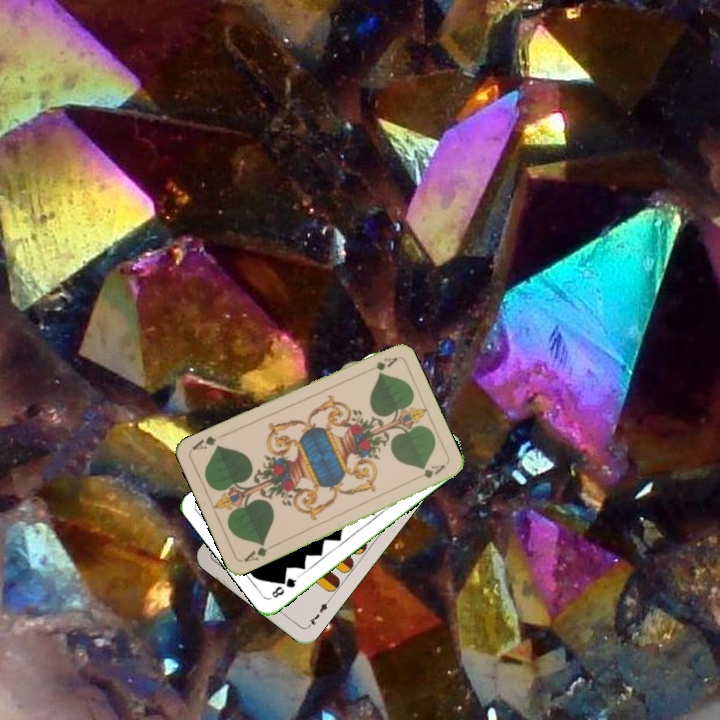E7: (304, 595, 333, 630)
G8: (267, 572, 301, 600)
GA: (361, 353, 400, 375), (240, 538, 270, 565)
